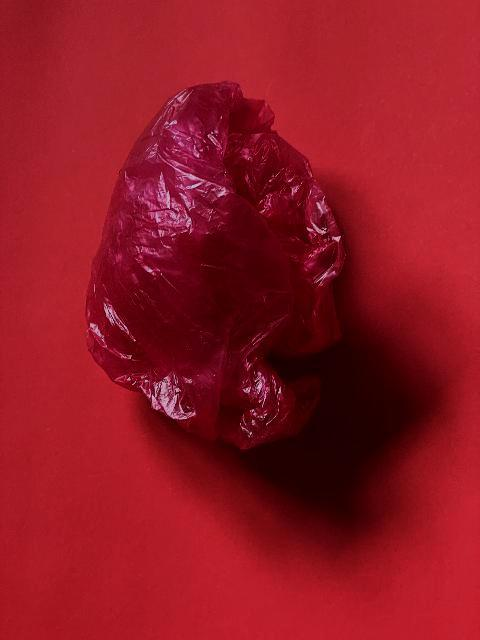plasticbag: (82, 77, 346, 457)
